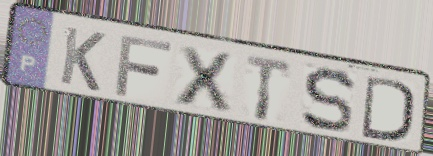D: (360, 72, 417, 145)
F: (112, 33, 175, 99)
K: (57, 24, 108, 95)
S: (300, 66, 358, 135)
T: (244, 53, 293, 124)
X: (174, 43, 234, 114)
